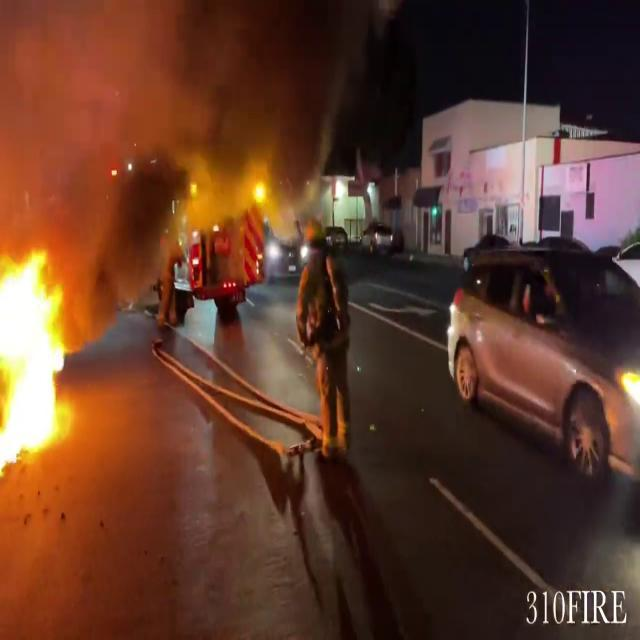Fire: (0, 244, 79, 488), (614, 361, 640, 418)
Smoke: (0, 0, 346, 264)
